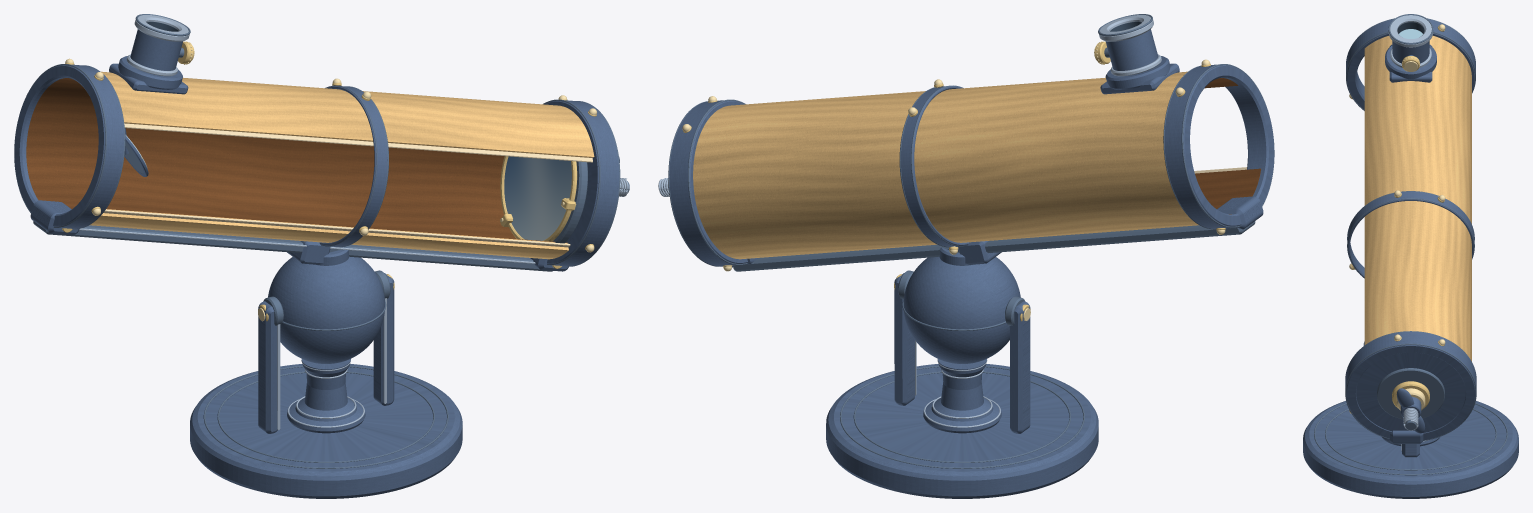
File: Newton-Step2.glb
The picture shows the model from 3 angles, left to right: view 1: azimuth 30°, elevation 25°; view 2: azimuth 150°, elevation 25°; view 3: azimuth 270°, elevation 25°; orthographic projection. The views are drawn at different scales.
Parts seen in each view (by area): view 1: Tube_BackInterior, Base_CircularPedestal, Tube_UpperLip, Mount_SphericalJoint, Tube_LowerLip, Mount_LowerRail, Primary_ParabolicSurface, Band_Front_Near, Band_Rear_Near, Mount_TurnedColumn, Mount_Upright_-1, Tube_WindowEdge_0.86 (+14 smaller); view 2: Tube_BackShell, Base_CircularPedestal, Mount_SphericalJoint, Mount_LowerRail, Band_Front_Far, Band_Rear_Far, Mount_TurnedColumn, Band_Front_Near, Mount_Upright_-1, Band_Middle_Far, Mount_Upright_1, Tube_UpperLip (+7 smaller); view 3: Tube_BackShell, Base_CircularPedestal, Tube_UpperLip, Tube_RearClosure, Band_Rear_Far, Band_Rear_Near, Tube_RearEndStep, Band_Front_Near, Band_Middle_Near, Eyepiece_UpperLip, Band_Front_Far, Band_Middle_Far (+11 smaller).
Part boxes in pixels (box(x1,y1,x2,y2)): Tube_BackInterior: box(26, 78, 516, 238); Base_CircularPedestal: box(190, 364, 462, 498); Tube_UpperLip: box(106, 76, 594, 157); Mount_SphericalJoint: box(268, 256, 384, 363); Tube_LowerLip: box(89, 209, 568, 259); Mount_LowerRail: box(33, 221, 553, 271); Primary_ParabolicSurface: box(504, 156, 571, 240); Band_Front_Near: box(53, 70, 124, 228); Band_Rear_Near: box(547, 105, 619, 266); Mount_TurnedColumn: box(287, 359, 365, 433); Mount_Upright_-1: box(258, 301, 277, 433); Tube_WindowEdge_0.86: box(124, 123, 592, 162); Tube_BackShell: box(693, 76, 1198, 259); Base_CircularPedestal: box(826, 364, 1098, 498); Mount_SphericalJoint: box(903, 257, 1020, 363); Mount_LowerRail: box(733, 221, 1255, 271); Band_Front_Far: box(1164, 70, 1241, 228); Band_Rear_Far: box(669, 105, 747, 266); Mount_TurnedColumn: box(923, 359, 1001, 433); Band_Front_Near: box(1190, 64, 1274, 205); Mount_Upright_-1: box(1009, 301, 1030, 433); Band_Middle_Far: box(899, 91, 968, 246); Mount_Upright_1: box(894, 273, 914, 405); Tube_UpperLip: box(717, 71, 1187, 110); Tube_BackShell: box(1411, 36, 1471, 361); Base_CircularPedestal: box(1303, 401, 1518, 498); Tube_UpperLip: box(1364, 36, 1410, 344); Tube_RearClosure: box(1356, 352, 1465, 432); Band_Rear_Far: box(1411, 332, 1476, 440); Band_Rear_Near: box(1345, 332, 1410, 438); Tube_RearEndStep: box(1377, 368, 1444, 419); Band_Front_Near: box(1346, 19, 1393, 109); Band_Middle_Near: box(1347, 191, 1410, 278); Eyepiece_UpperLip: box(1388, 15, 1433, 47); Band_Front_Far: box(1428, 19, 1475, 91); Band_Middle_Far: box(1411, 191, 1474, 258).
Size of the model in its own units: 8.87 by 6.7 by 3.54.
11 materials, 4 textured.
